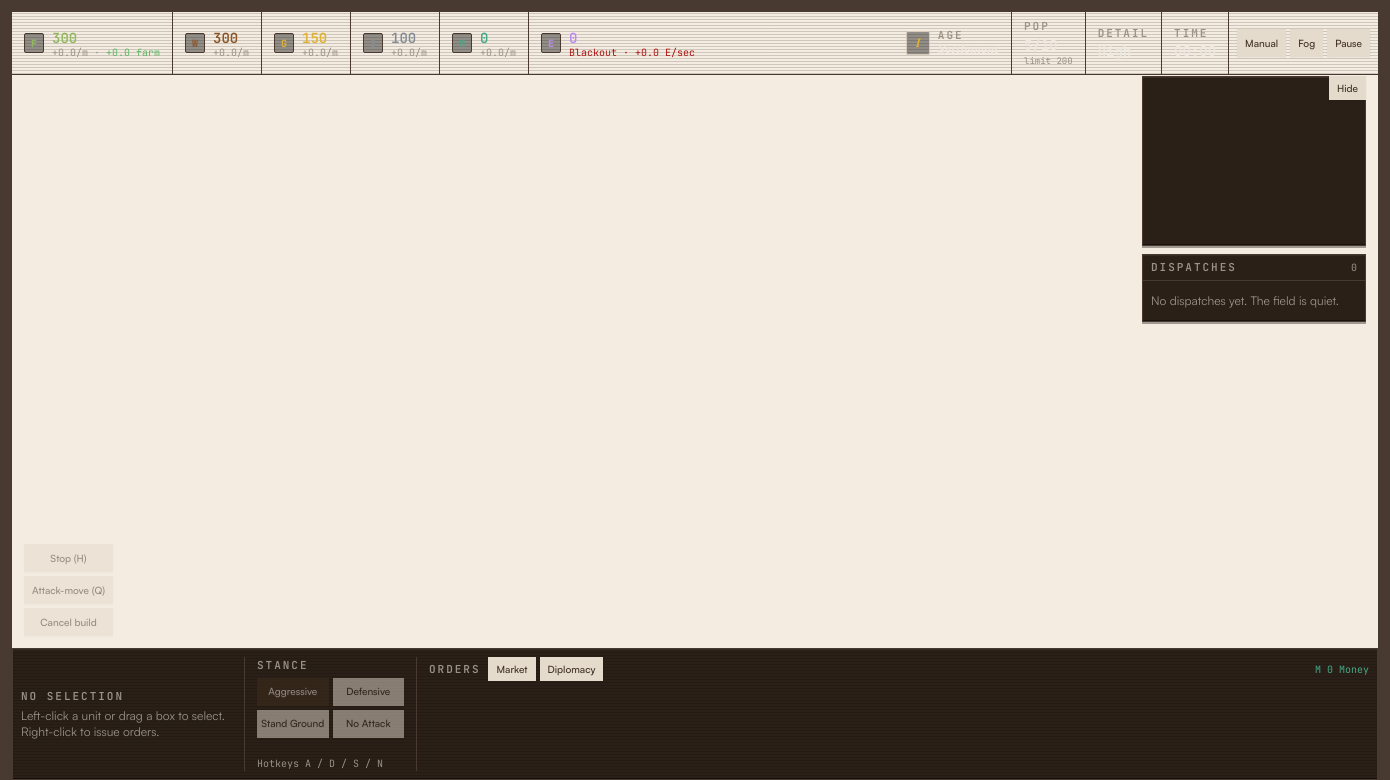
it: enemy entity inspection › selects an enemy unit for inspection and shows its stats with no actions
This screenshot has width=1390, height=780.
Press the mouse on the drawing named "Battlefield view" at (695, 396), box [12,12,1378,779]
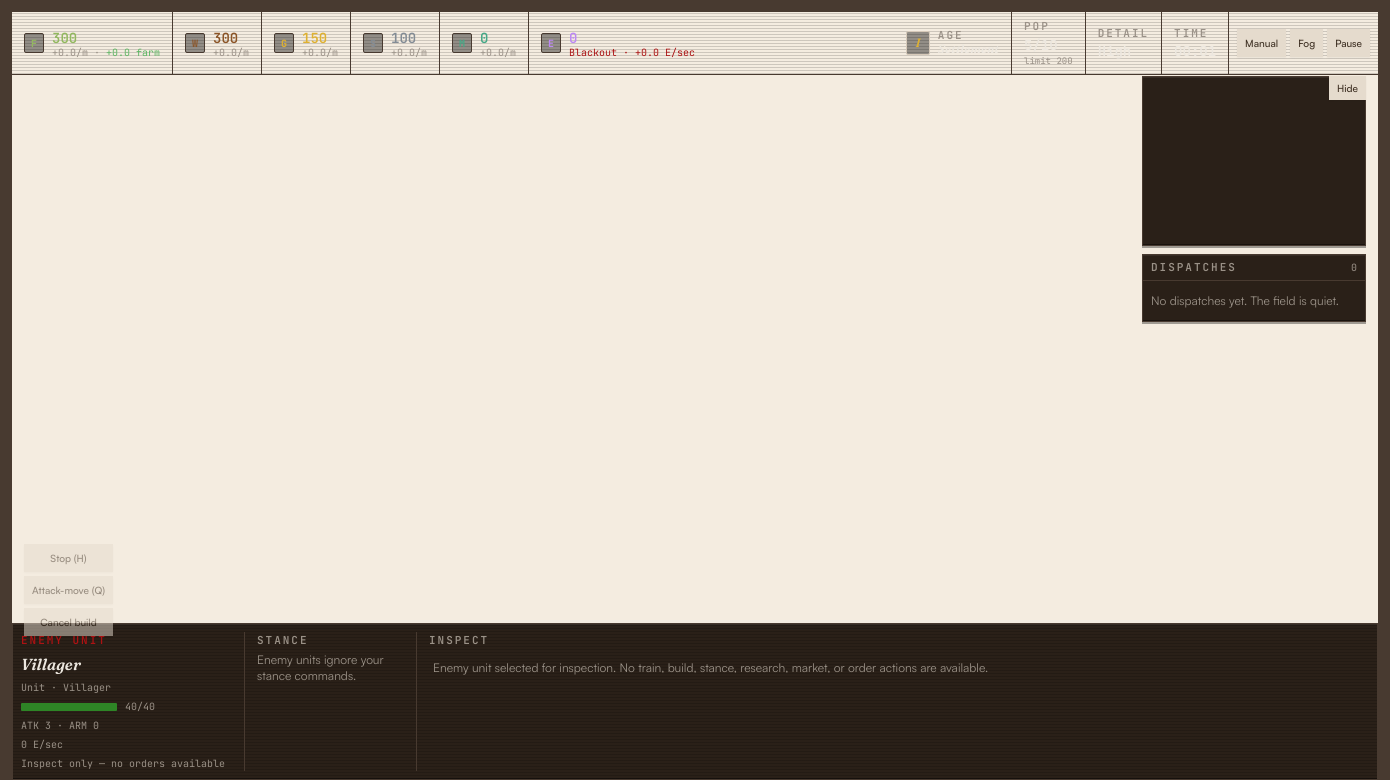
Now the text "Enemy Unit" is shown, box [21,632,107,646]
Now the text "Villager" is shown, box [21,654,81,674]
